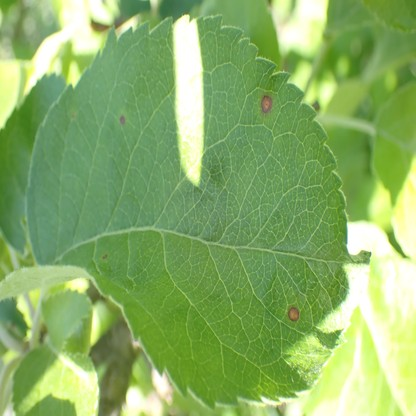frogeye_leaf_spot: (261, 95, 272, 113), (288, 307, 300, 321), (119, 116, 125, 125), (102, 254, 108, 259)
